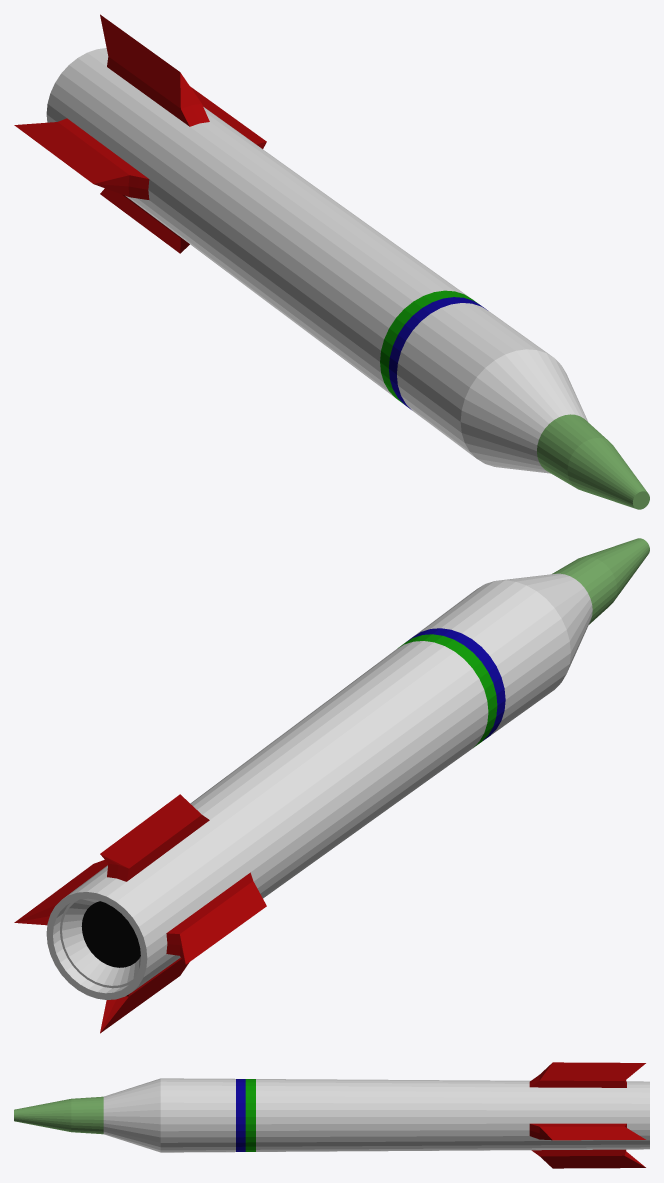
File: Missle.fbx
3 views of the same model, one above another, from view 1: azimuth 30°, elevation 25°; view 2: azimuth 150°, elevation 25°; view 3: azimuth 270°, elevation 25° (orthographic). The views are drawn at different scales.
Parts seen in each view (by area): view 1: Missle; view 2: Missle; view 3: Missle.
Boxes of the visible parts, box(x1,y1,x2,y2) form: Missle: box(14, 14, 649, 509); Missle: box(14, 538, 649, 1033); Missle: box(14, 1062, 649, 1168).
Bounding box in the file's own units: 22.1 × 120 × 22.1.
